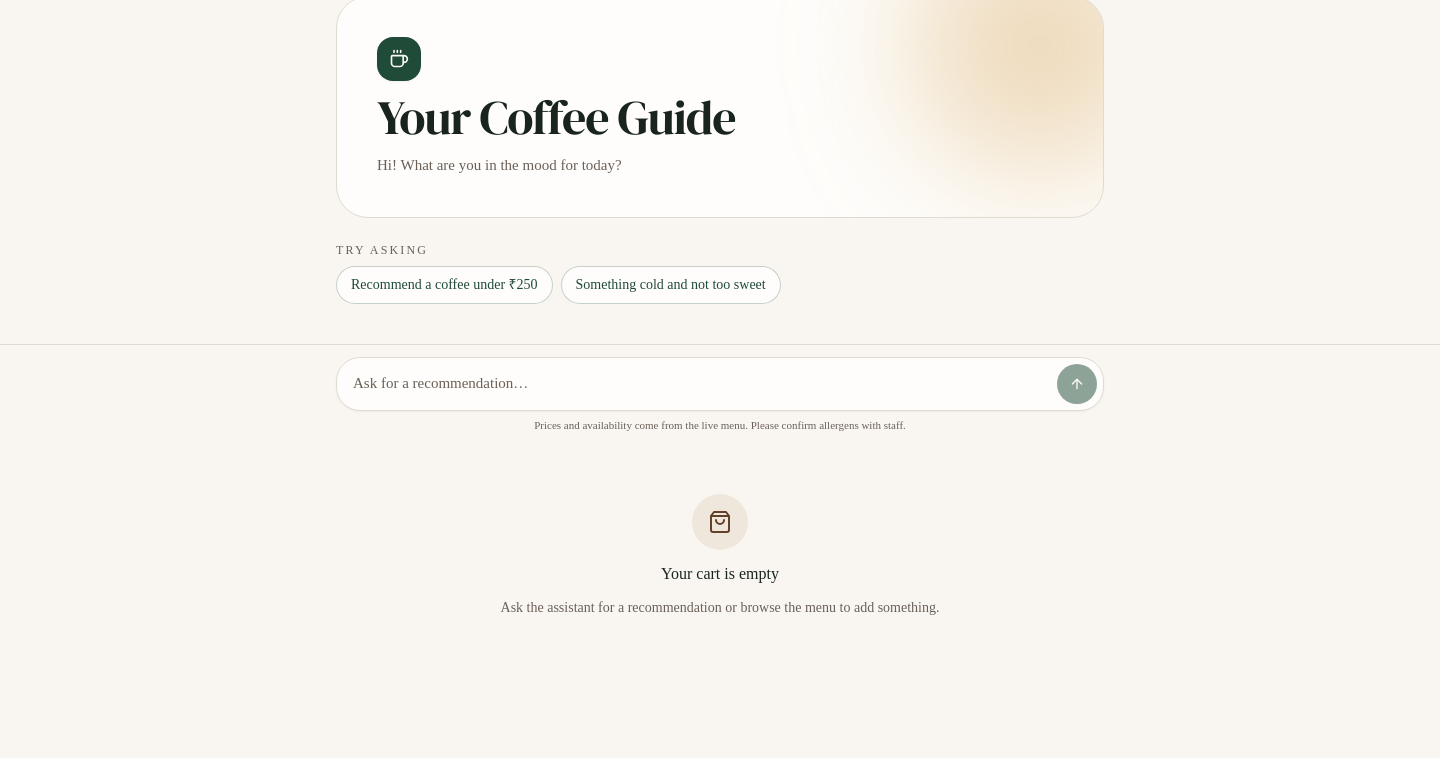
Test: Chat › requires a size before adding a variant item, then adds it to the cart
The width and height of the screenshot is (1440, 758).
Click the button "Recommend a coffee under ₹250".
click(444, 285)  # box [336,266,553,304]
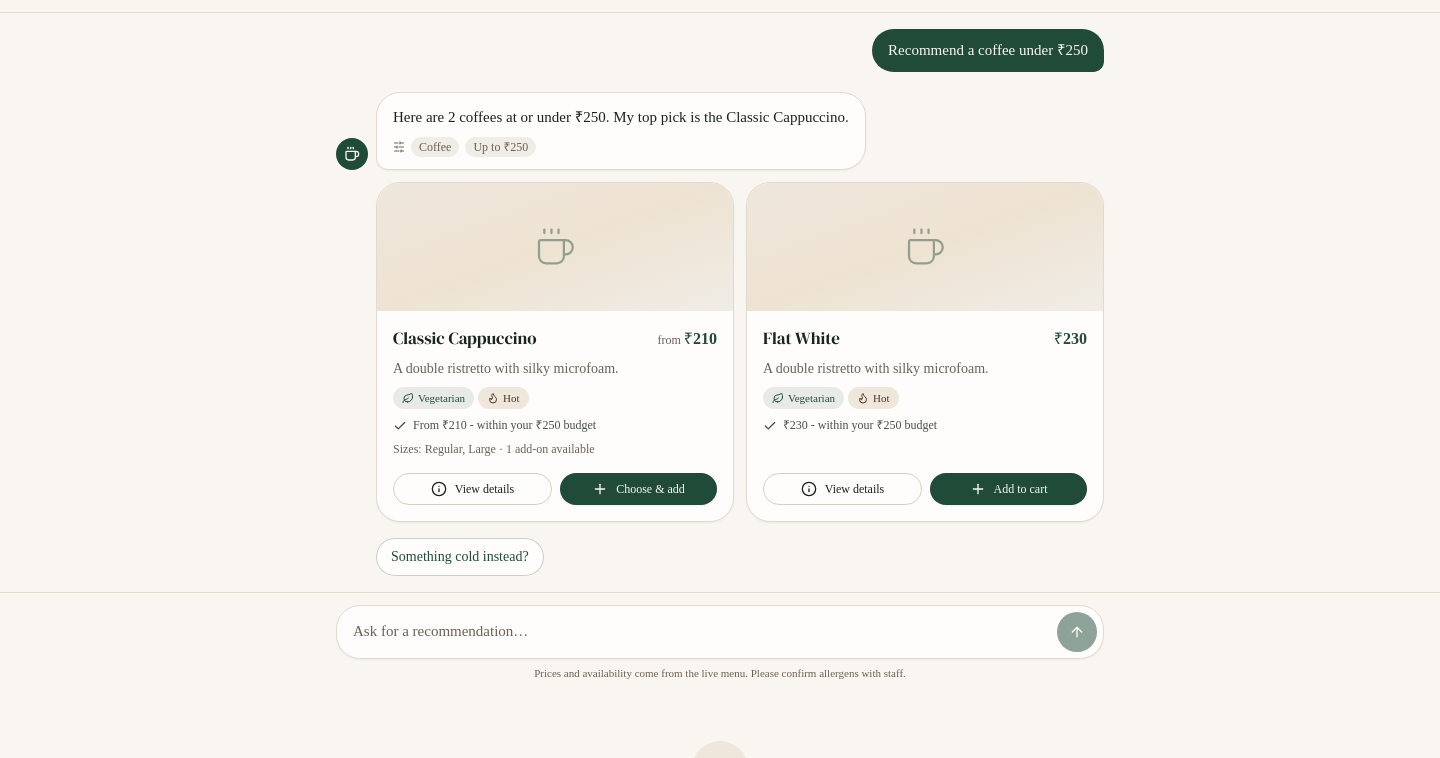
Click the button with aria-label "Add Classic Cappuccino to cart".
click(638, 489)  # box [560,473,717,505]
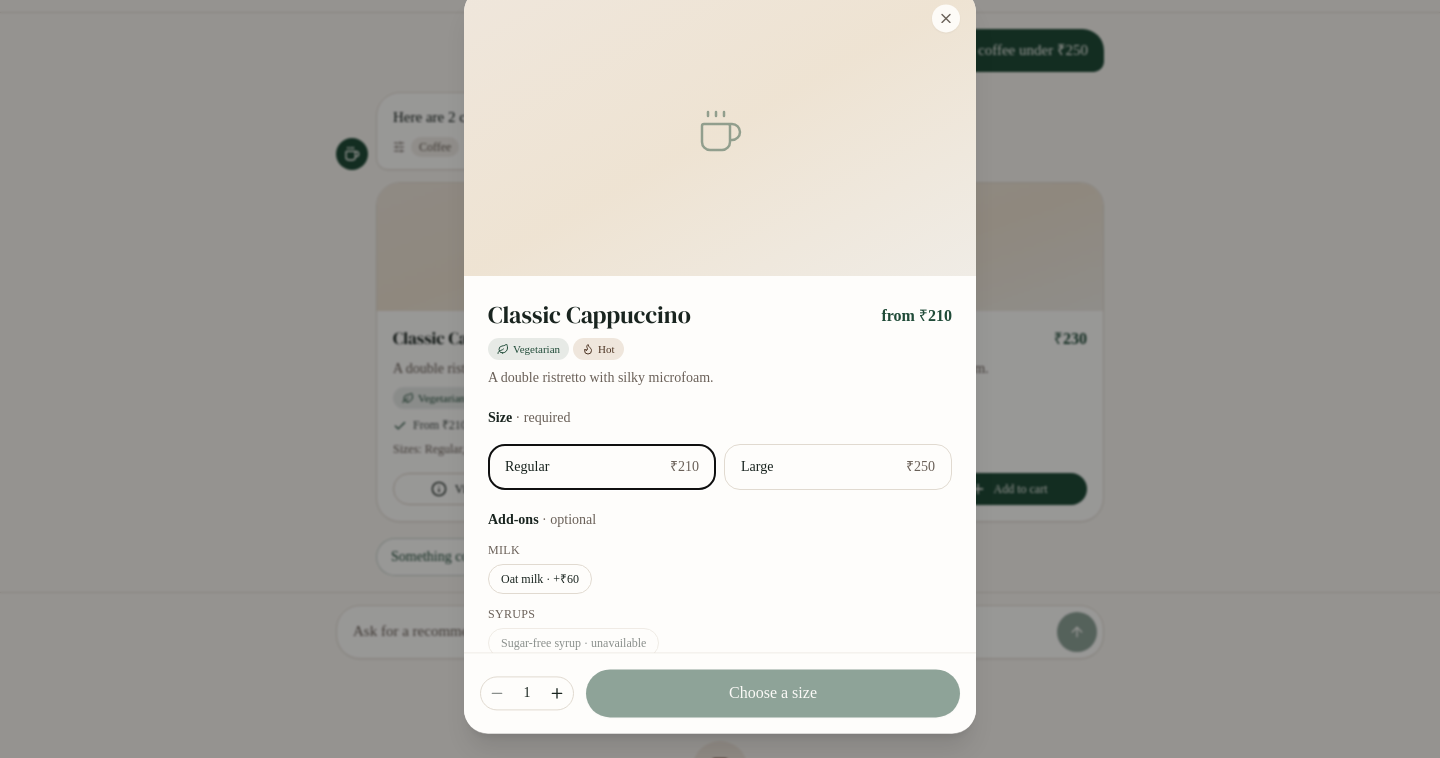
Check: the button "Choose a size" is disabled, box [586,670,960,718]
Check: the button "Sugar-free syrup · unavailable" is disabled, box [488,628,659,653]
Click the radio button labelled "Large ₹250".
click(838, 467)  # box [724,444,952,490]
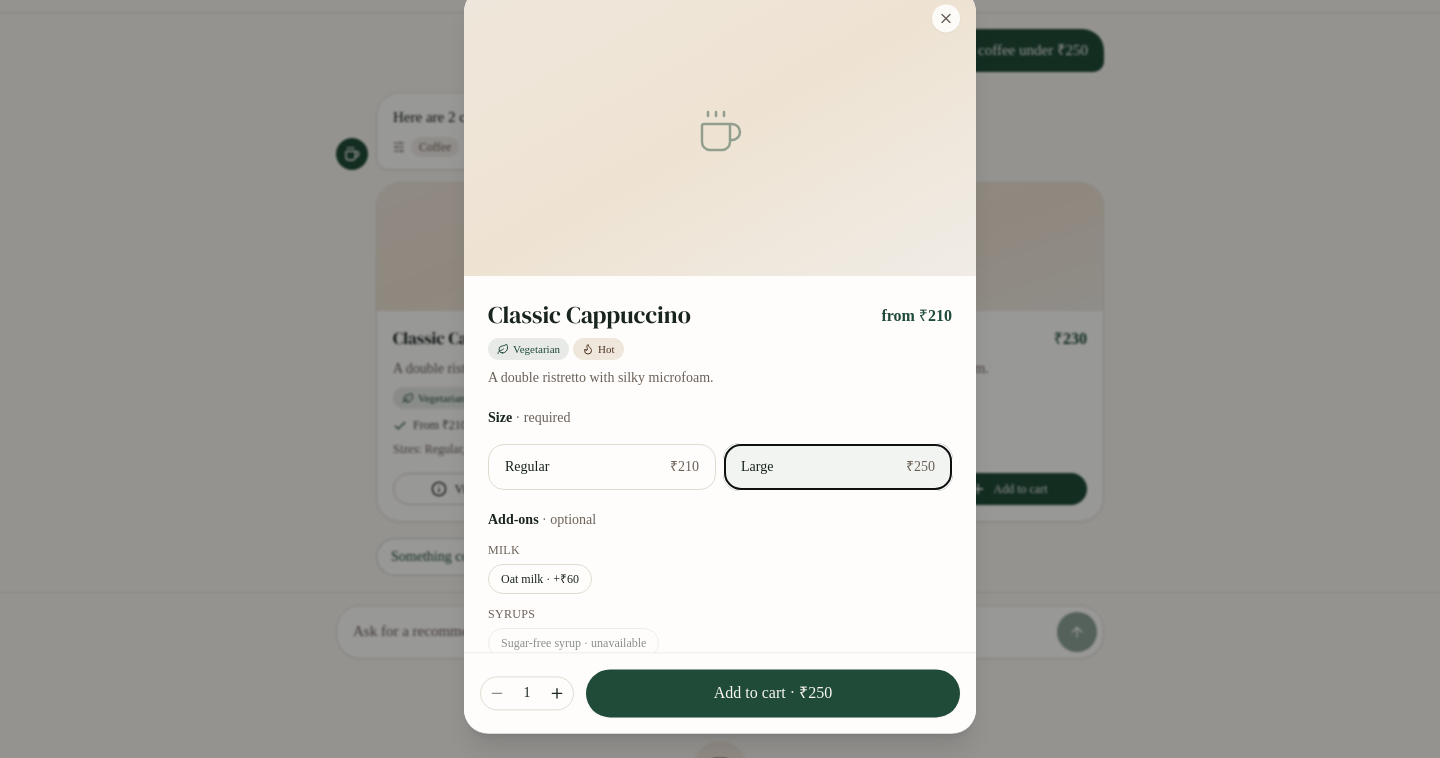
Click the button "Oat milk · +₹60".
click(540, 579)  # box [488,564,592,594]
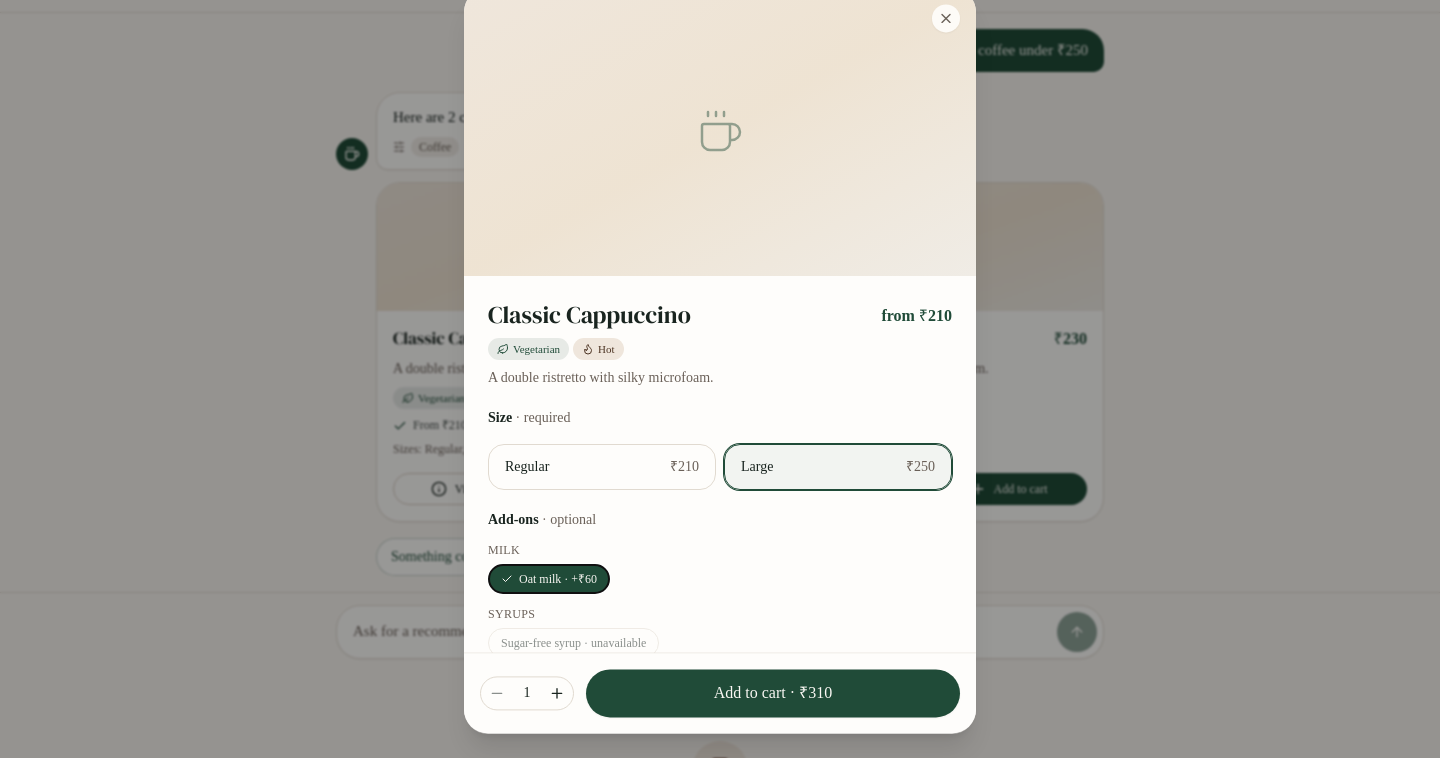
Click the button named "Increase quantity".
click(557, 694)  # box [541,678,573,710]
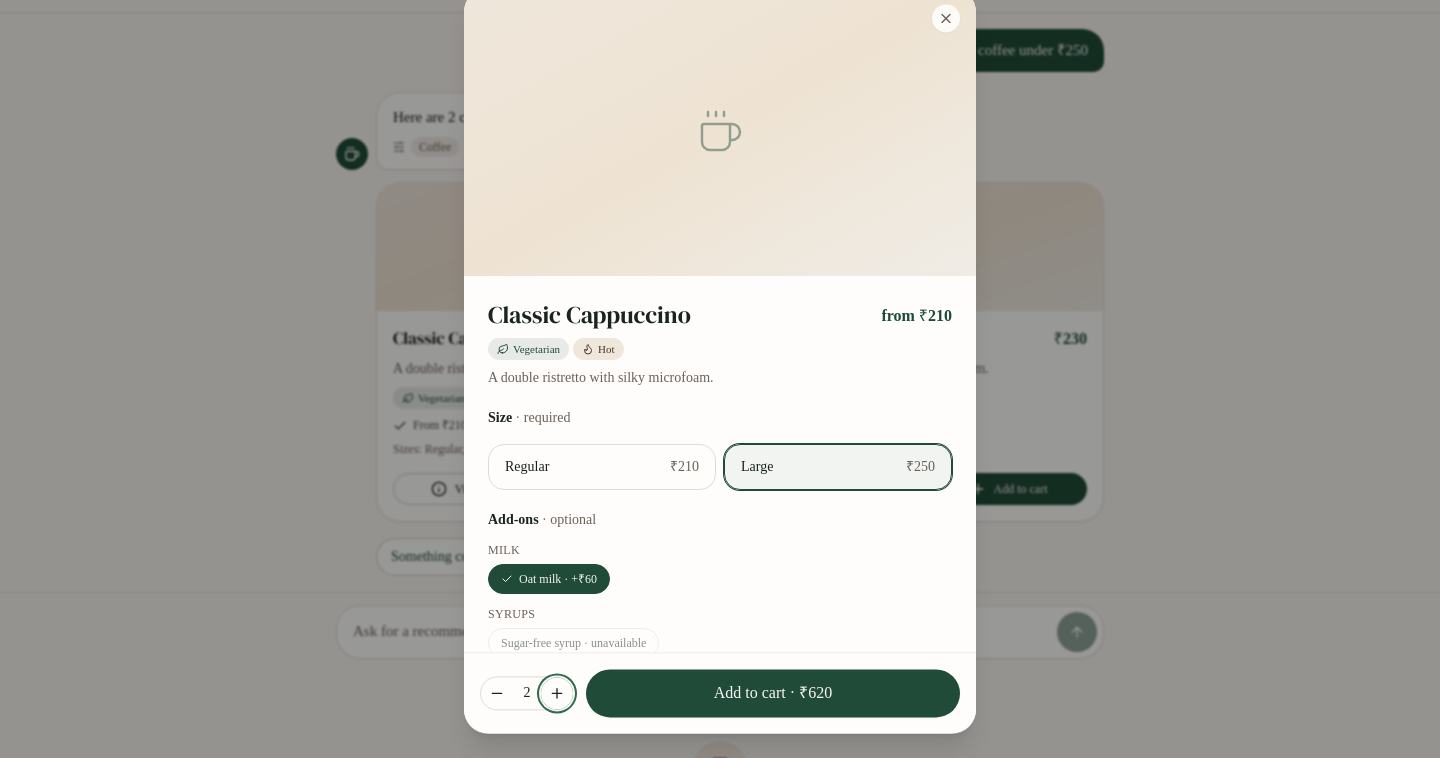
Click the button "Add to cart · ₹620".
click(773, 694)  # box [586,670,960,718]
(page scrolled)
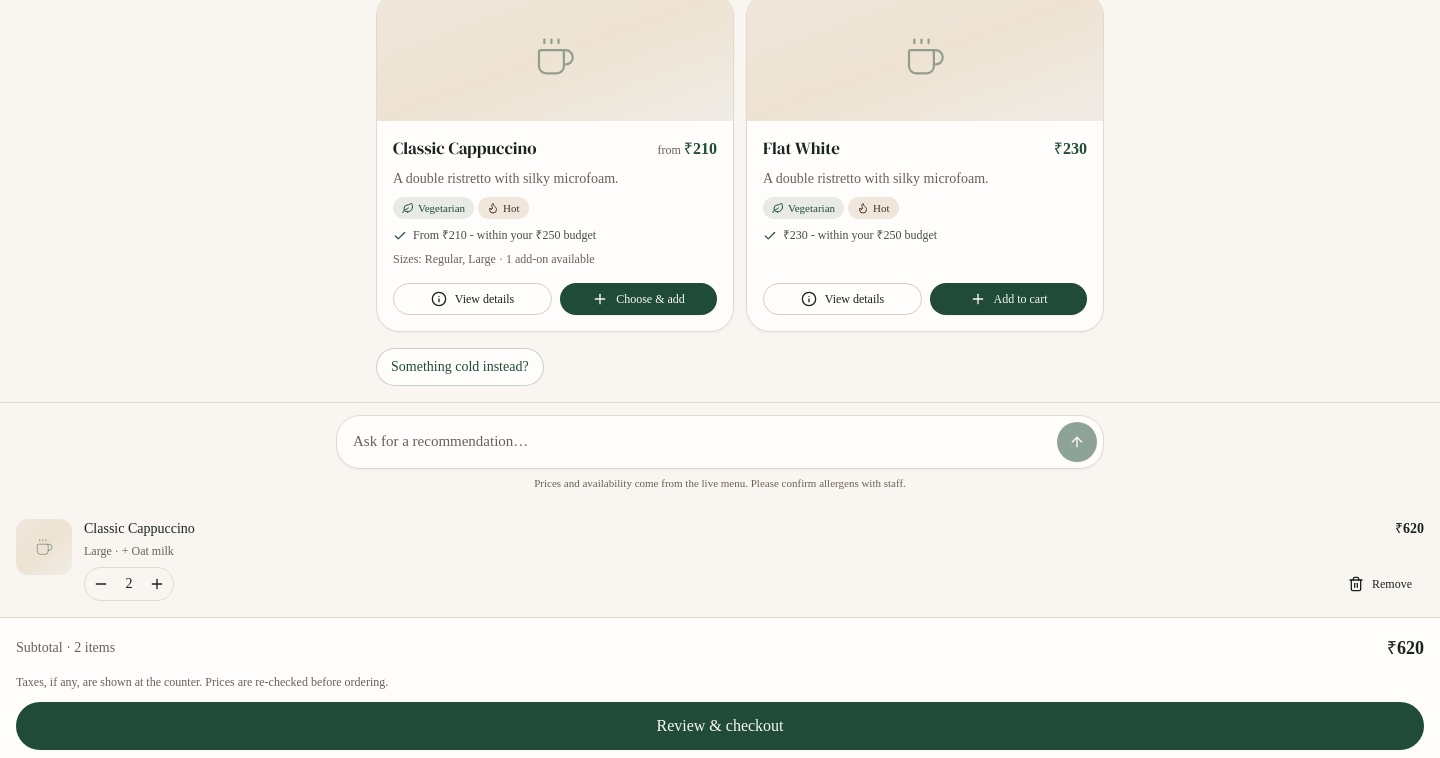
Check: the text "Classic Cappuccino" is shown, box [84,519,195,539]
Check: the text "Large · + Oat milk" is shown, box [84,544,174,558]
Check: the text with test id "cart-subtotal" reads "₹620", box [1387,638,1424,658]
